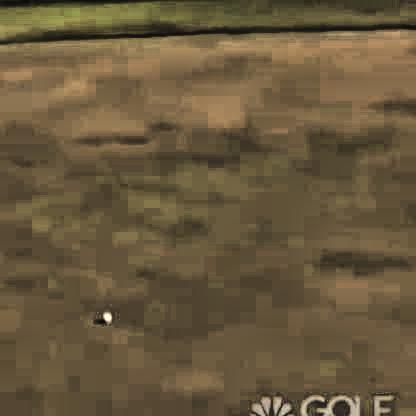golfball: (100, 306, 110, 319)
